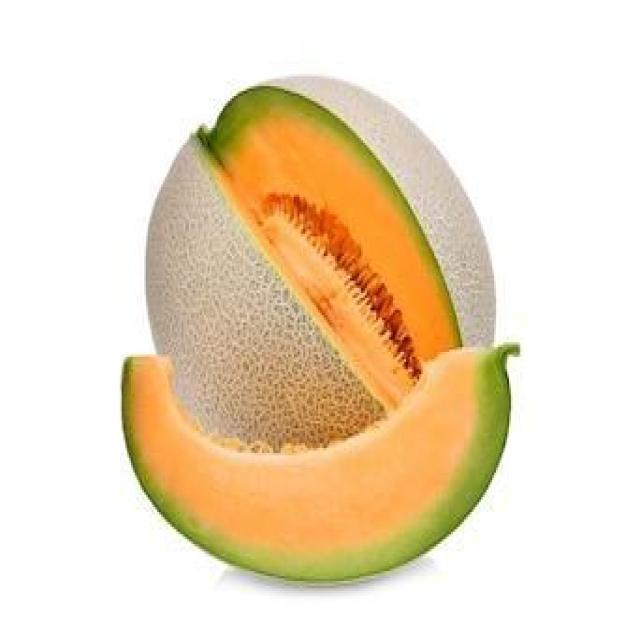cantaloupe: (147, 72, 496, 370), (121, 347, 515, 586)
